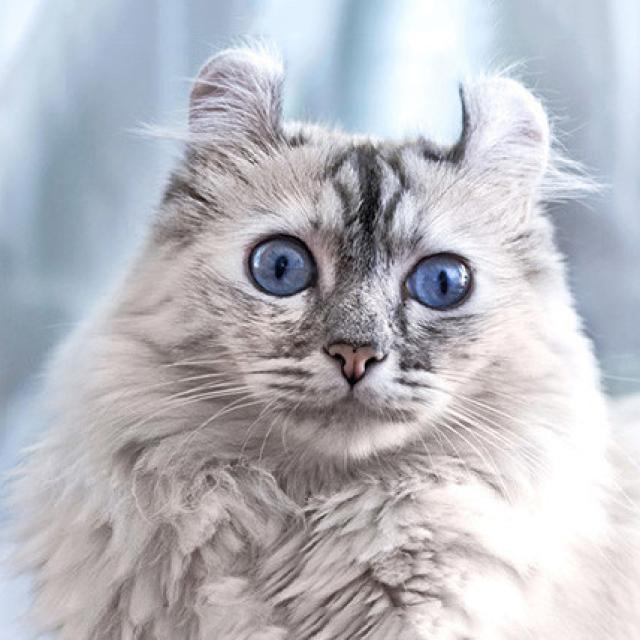American Curl: (0, 40, 640, 640)
